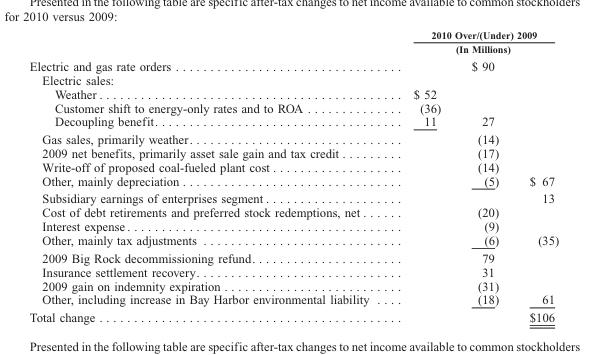table: (28, 29, 558, 323)
table column: (28, 29, 390, 323), (447, 29, 519, 323), (390, 29, 447, 323), (519, 29, 558, 323)
table column header: (28, 29, 558, 72)
table projected row header: (28, 72, 558, 86)
table row: (28, 41, 558, 72), (28, 114, 558, 130), (28, 173, 558, 189), (28, 189, 558, 205), (28, 232, 558, 248), (28, 248, 558, 264), (28, 292, 558, 308), (28, 130, 558, 145), (28, 308, 558, 323), (28, 72, 558, 86), (28, 86, 558, 100), (28, 100, 558, 114), (28, 145, 558, 159), (28, 159, 558, 173), (28, 205, 558, 219), (28, 264, 558, 278), (28, 278, 558, 292), (28, 219, 558, 232), (28, 29, 558, 41)
table spanning cell: (28, 29, 390, 72), (390, 29, 558, 41)
